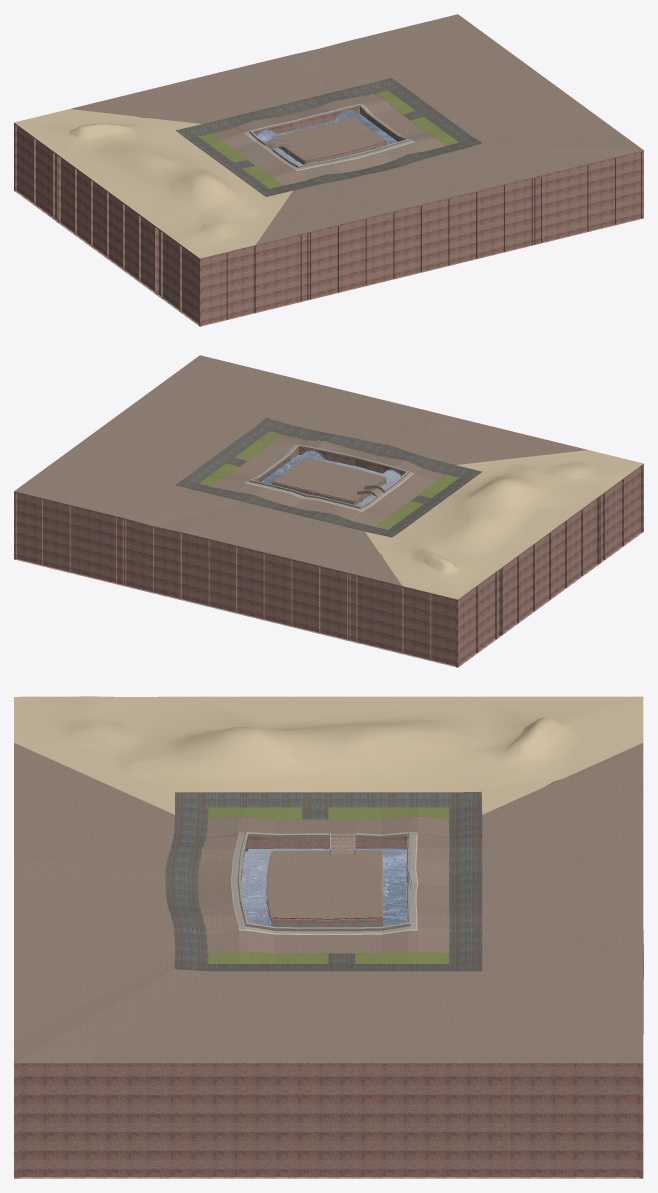
File: TG4beach.fbx
The picture shows the model from 3 angles, top to bottom: view 1: azimuth 30°, elevation 25°; view 2: azimuth 150°, elevation 25°; view 3: azimuth 270°, elevation 25°; orthographic projection. The views are drawn at different scales.
Visible parts, largest first — view 1: Plane, Plane.001; view 2: Plane, Plane.001; view 3: Plane, Plane.001.
Part boxes in pixels (x1,y1,x2,y2): Plane: (14,14,643,326); Plane.001: (14,109,292,258); Plane: (14,355,643,667); Plane.001: (365,450,643,599); Plane: (14,743,643,1178); Plane.001: (14,696,643,814).
Size of the model in its own units: 24913 by 4408 by 18092.
Materials: 8 (7 with a texture image).
